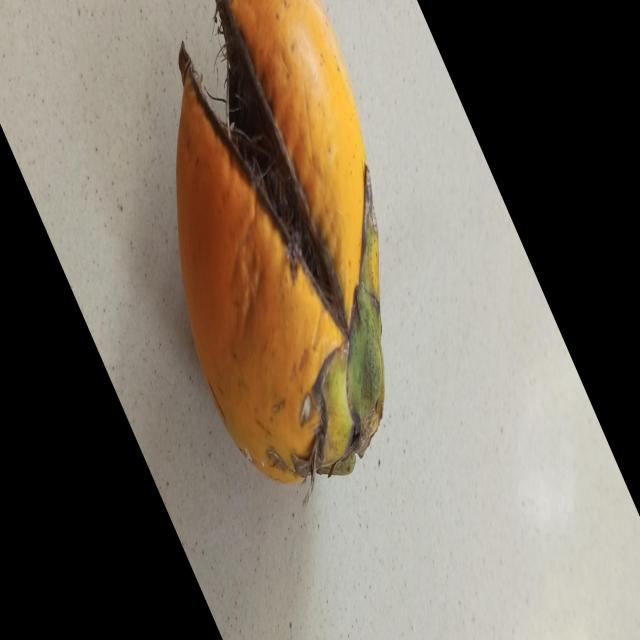damaged: (176, 0, 386, 486)
